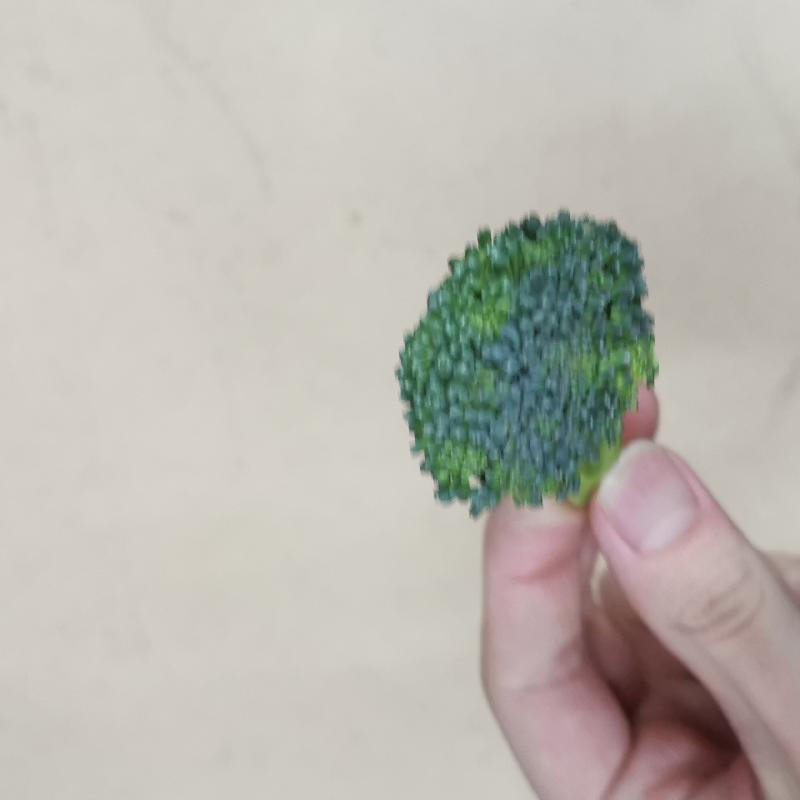broccoli: (388, 208, 659, 517)
